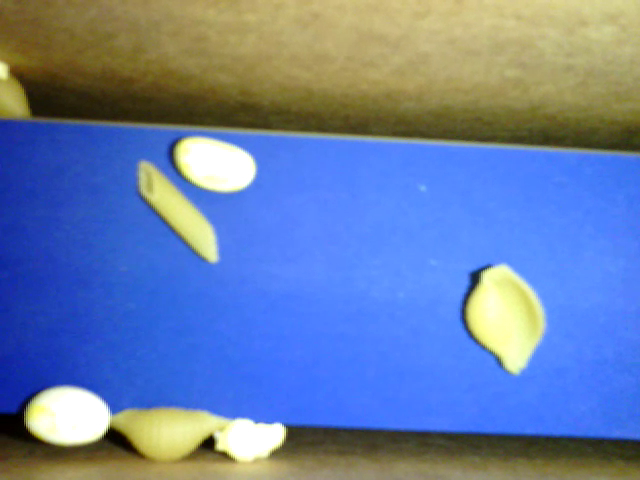penne: (136, 157, 221, 264)
shell: (463, 257, 548, 380), (109, 407, 234, 462)
